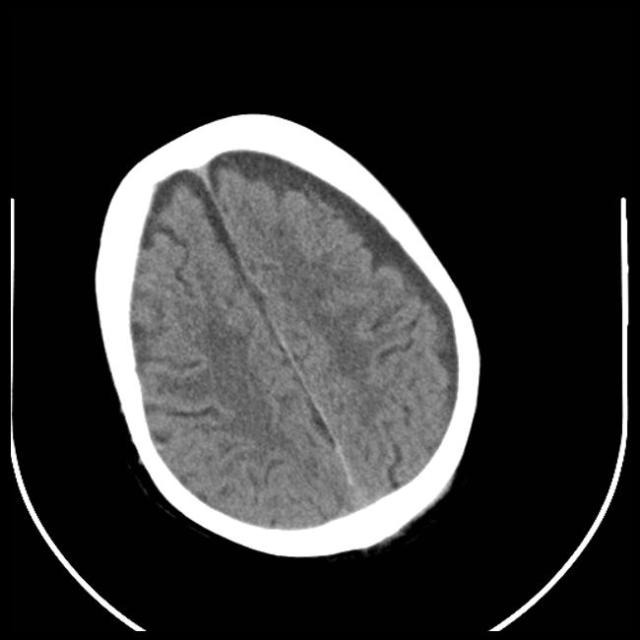lesion: (92, 111, 484, 558)
